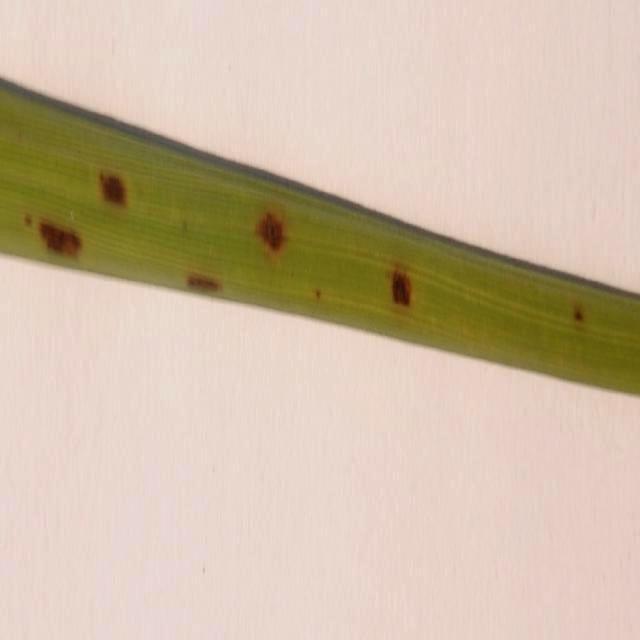Brownspot: (39, 221, 80, 256), (256, 212, 283, 251), (100, 173, 125, 204), (392, 270, 411, 305), (187, 274, 220, 291), (573, 304, 583, 322), (24, 214, 31, 225), (315, 289, 321, 299)
